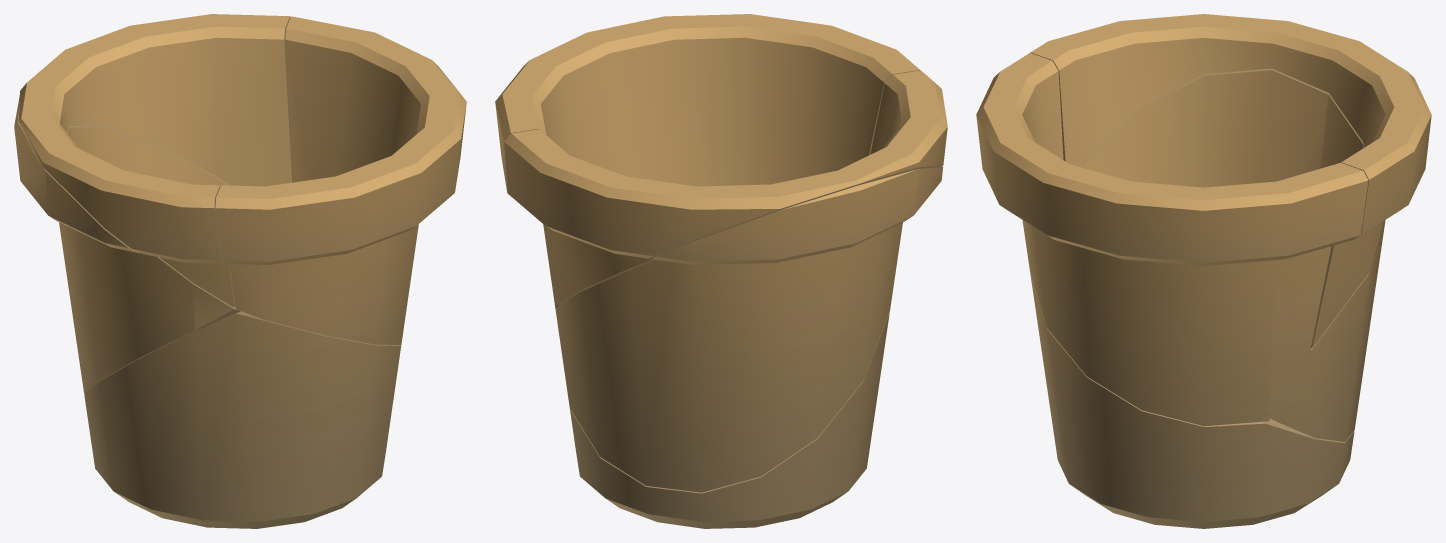
The model's file is PlantPot_Round_Broken.fbx.
3 renders of one model, left to right at view 1: azimuth 30°, elevation 25°; view 2: azimuth 150°, elevation 25°; view 3: azimuth 270°, elevation 25°, orthographic.
Parts seen in each view (by area): view 1: PlantPot_Round_Broken_cell.003, PlantPot_Round_Broken_cell.001, PlantPot_Round_Broken_cell, PlantPot_Round_Broken_cell.004; view 2: PlantPot_Round_Broken_cell.004, PlantPot_Round_Broken_cell.003, PlantPot_Round_Broken_cell, PlantPot_Round_Broken_cell.001; view 3: PlantPot_Round_Broken_cell.003, PlantPot_Round_Broken_cell, PlantPot_Round_Broken_cell.004, PlantPot_Round_Broken_cell.001.
Boxes of the visible parts, x1,y1,x2,y2 form: PlantPot_Round_Broken_cell.003: (215,16,466,344); PlantPot_Round_Broken_cell.001: (84,312,402,528); PlantPot_Round_Broken_cell: (18,14,293,307); PlantPot_Round_Broken_cell.004: (14,95,243,393); PlantPot_Round_Broken_cell.004: (555,167,943,492); PlantPot_Round_Broken_cell.003: (495,14,920,334); PlantPot_Round_Broken_cell: (504,70,947,305); PlantPot_Round_Broken_cell.001: (563,312,889,528); PlantPot_Round_Broken_cell.003: (976,53,1368,426); PlantPot_Round_Broken_cell: (1030,14,1431,348); PlantPot_Round_Broken_cell.004: (1084,68,1385,441); PlantPot_Round_Broken_cell.001: (1030,274,1354,528).
Size of the model in its own units: 65.54 by 58.39 by 65.54.
